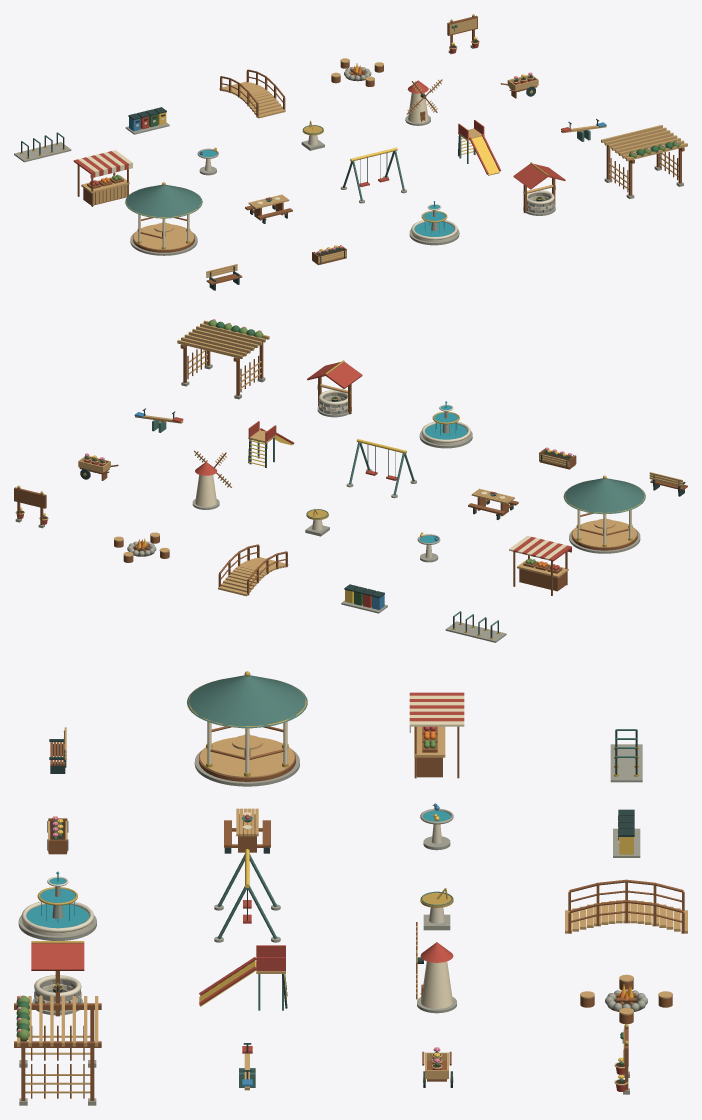
File: decorations.glb
3 views of the same model, one above another, from view 1: azimuth 30°, elevation 25°; view 2: azimuth 150°, elevation 25°; view 3: azimuth 270°, elevation 25° (orthographic). The views are drawn at different scales.
Parts seen in each view (by area): view 1: decorGazebo-copper-21, decorGazebo-lightwood-3, decorBikeRack-stone-1, decorWell-red-47, decorSlide-yellow-17, decorFountain-water-3, decorWindmill-cream-2; view 2: decorGazebo-copper-21, decorGazebo-lightwood-3, decorMarket-wood-5, decorWindmill-cream-2, decorBikeRack-stone-1, decorWell-red-47, decorFountain-water-3; view 3: decorGazebo-copper-21, decorGazebo-lightwood-3, decorWell-red-48, decorWindmill-cream-2, decorFountain-water-3, decorBikeRack-stone-1, decorGazebo-stone-1, decorFountain-pale-4.
Boxes of the visible parts, x1,y1,x2,y2 form: decorGazebo-copper-21: (125,184,202,218); decorGazebo-lightwood-3: (133,224,194,250); decorBikeRack-stone-1: (14,142,71,162); decorWell-red-47: (513,164,547,189); decorSlide-yellow-17: (472,136,499,175); decorFountain-water-3: (414,221,454,236); decorWindmill-cream-2: (408,92,428,122); decorGazebo-copper-21: (563,478,645,513); decorGazebo-lightwood-3: (572,520,636,547); decorMarket-wood-5: (519,569,566,591); decorWindmill-cream-2: (195,475,216,506); decorBikeRack-stone-1: (445,621,506,642); decorWell-red-47: (325,362,362,388); decorFountain-water-3: (425,423,467,439); decorGazebo-copper-21: (187,675,307,727); decorGazebo-lightwood-3: (200,737,294,777); decorWell-red-48: (31,943,84,970); decorWindmill-cream-2: (421,961,452,1008); decorFountain-water-3: (26,904,89,928); decorBikeRack-stone-1: (610,744,642,782); decorGazebo-stone-1: (194,750,299,786); decorFountain-pale-4: (21,901,93,932).
Bounding box in the file's own units: 36.88 × 4.34 × 28.44.
